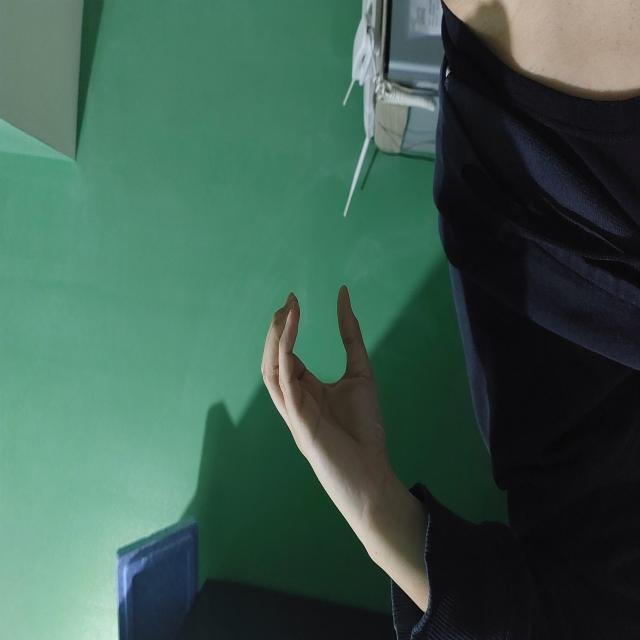C: (97, 261, 356, 392)
